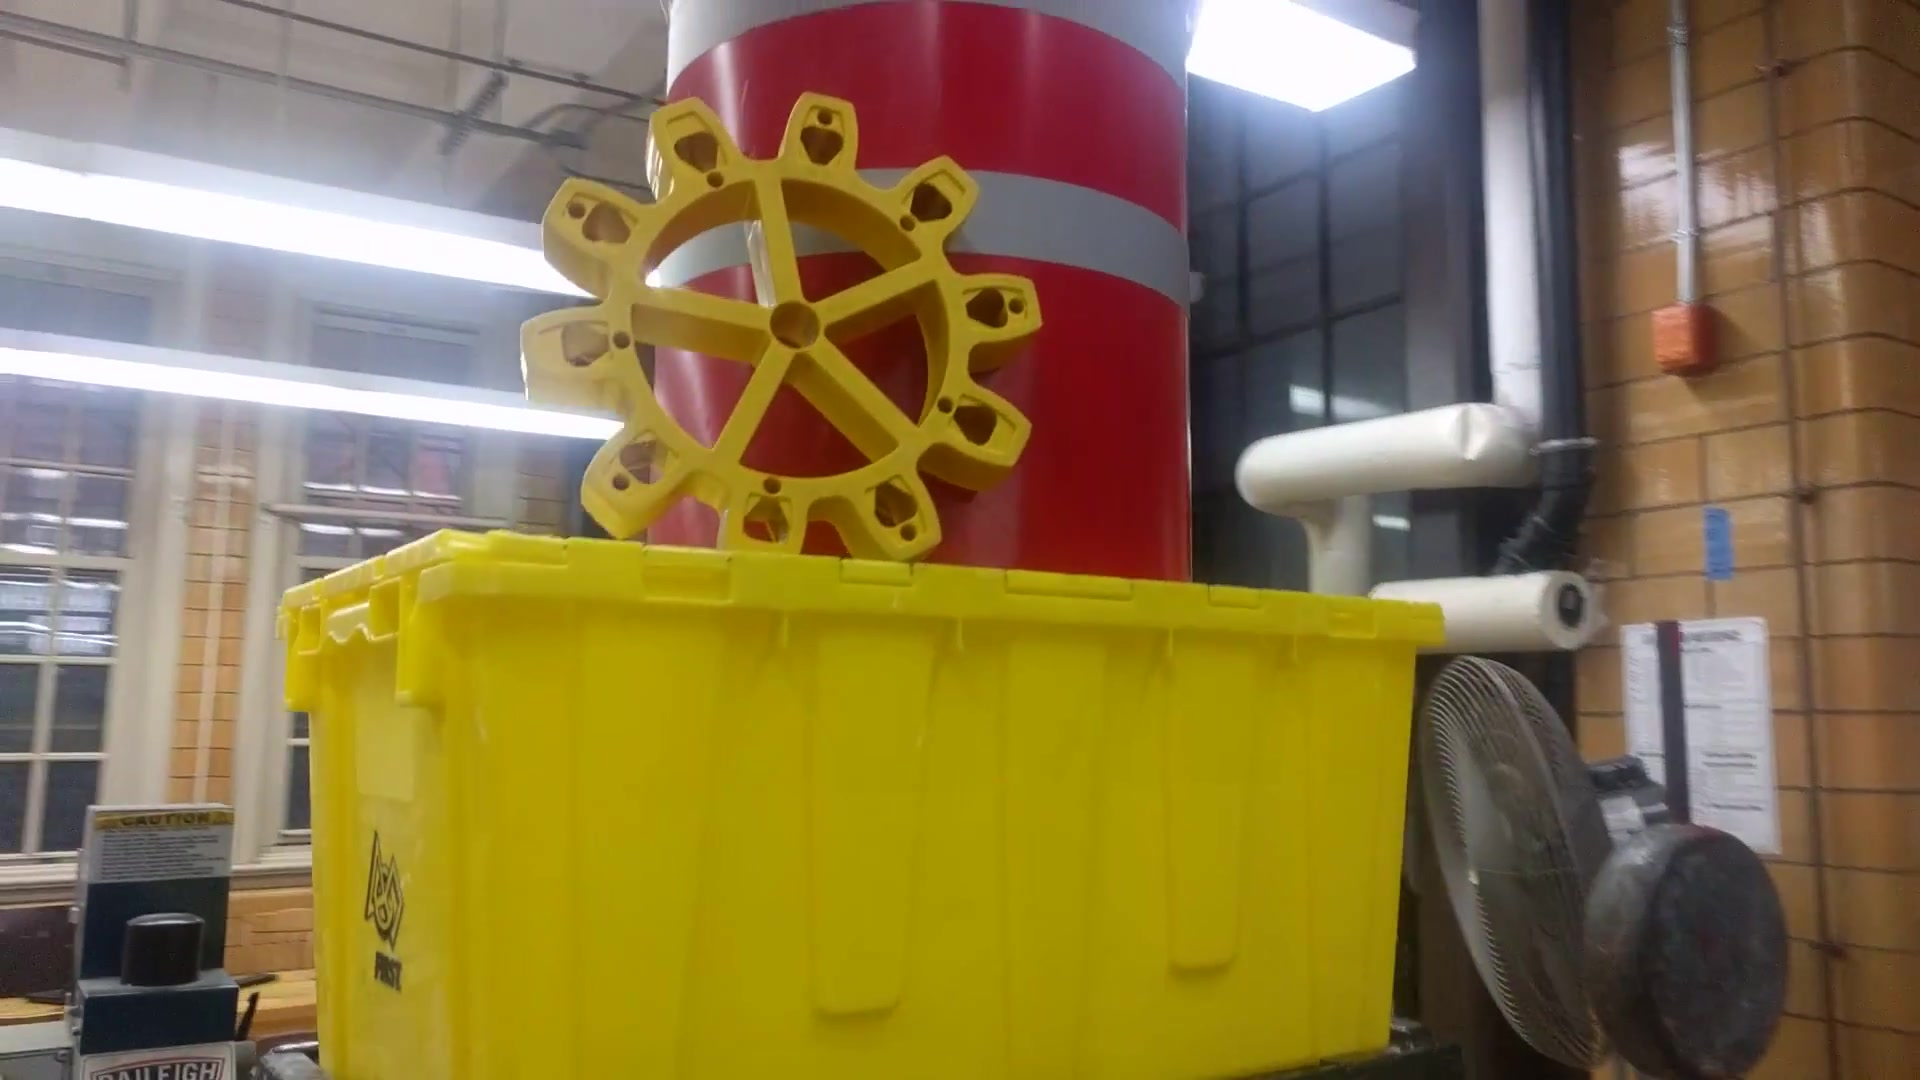gear: (533, 67, 1050, 622)
